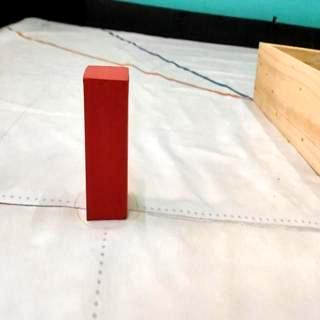redbox: (84, 62, 130, 225)
